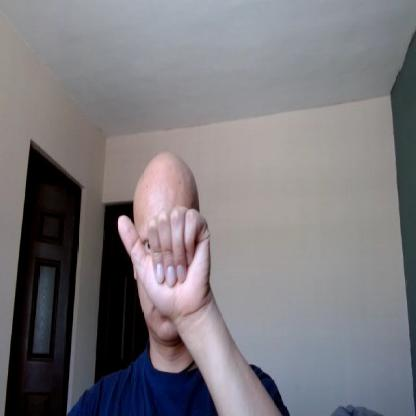A: (116, 207, 211, 312)
